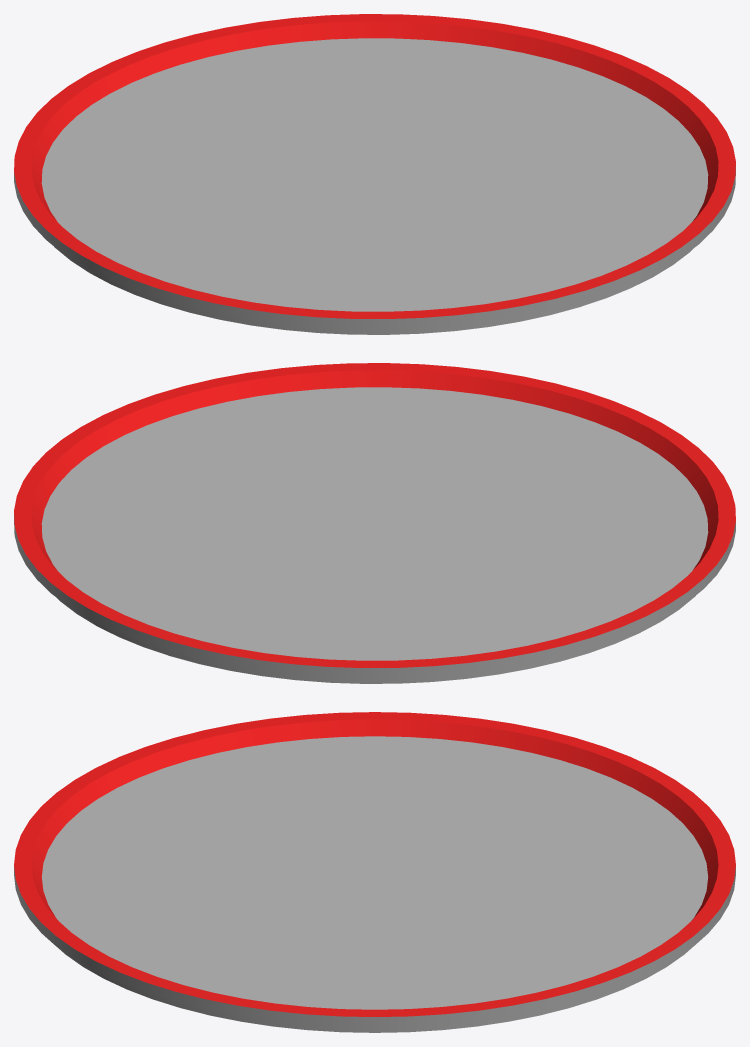
The model's file is tin_pizza.obj.
3 renders of one model, top to bottom at view 1: azimuth 30°, elevation 25°; view 2: azimuth 150°, elevation 25°; view 3: azimuth 270°, elevation 25°, orthographic.
Visible parts, largest first — view 1: tin_pizza.001; view 2: tin_pizza.001; view 3: tin_pizza.001.
Part boxes in pixels (x1,y1,x2,y2): tin_pizza.001: [14, 14, 735, 334]; tin_pizza.001: [14, 363, 735, 683]; tin_pizza.001: [14, 712, 735, 1032].
Bounding box in the file's own units: 0.2536 × 0.00777 × 0.2536.
